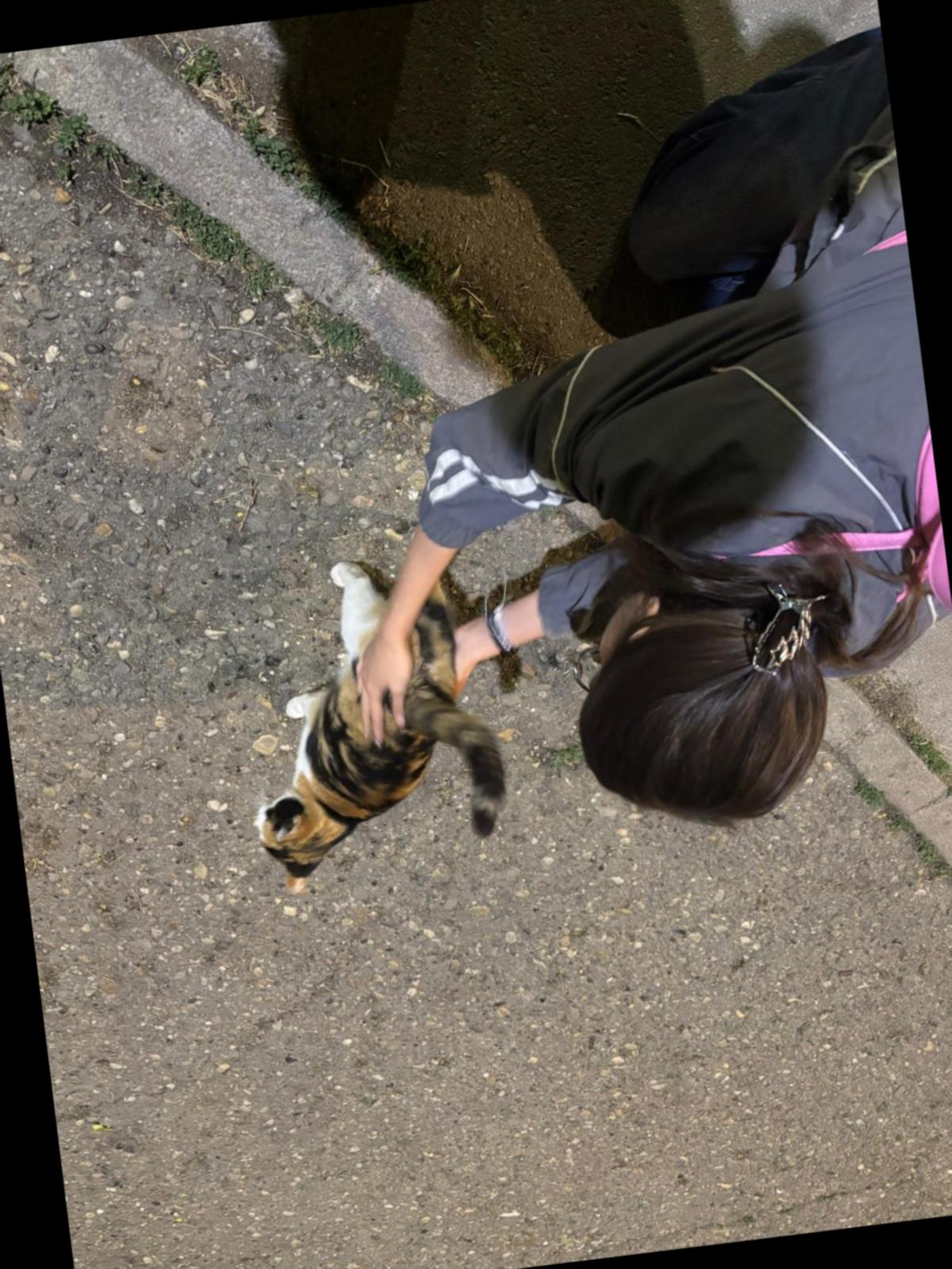macka: (222, 546, 518, 899)
